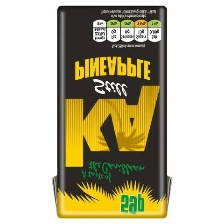carton: (45, 3, 183, 222)
